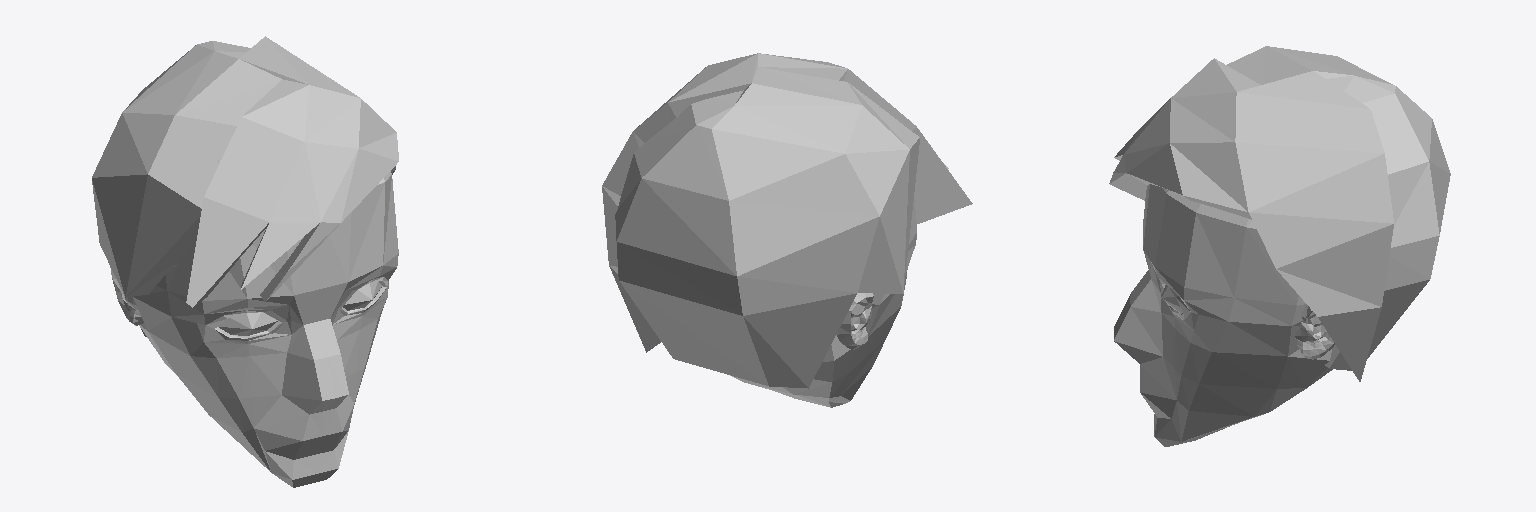
The model's file is Georg_open.obj.
The picture shows the model from 3 angles: view 1: azimuth 30°, elevation 25°; view 2: azimuth 150°, elevation 25°; view 3: azimuth 270°, elevation 25°; orthographic projection.
Visible parts, largest first — view 1: Hair_Cube.001, Face_Cube; view 2: Hair_Cube.001, Face_Cube; view 3: Hair_Cube.001, Face_Cube.
Boxes of the visible parts, <box> form: Hair_Cube.001: <box>92,36,398,336</box>; Face_Cube: <box>110,161,398,487</box>; Hair_Cube.001: <box>602,53,972,388</box>; Face_Cube: <box>730,105,916,407</box>; Hair_Cube.001: <box>1109,46,1450,381</box>; Face_Cube: <box>1114,184,1334,446</box>.
Bounding box in the file's own units: 5.69 × 7.28 × 6.1.